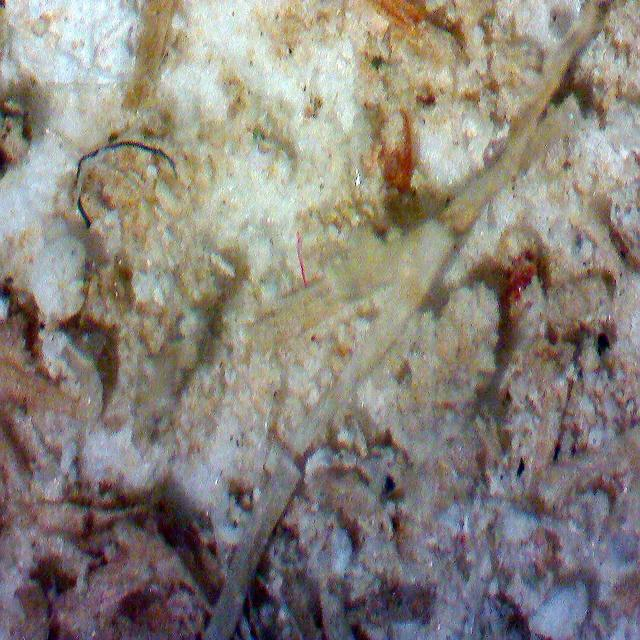microplastic: (56, 119, 181, 229), (295, 230, 307, 288)
